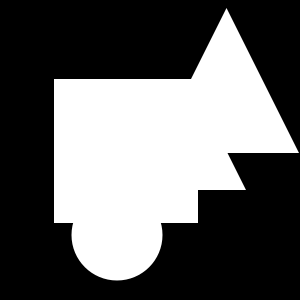circle: (54, 79, 198, 223)
rectangle: (72, 189, 163, 280)
triangle: (154, 8, 299, 153), (172, 116, 246, 190)
